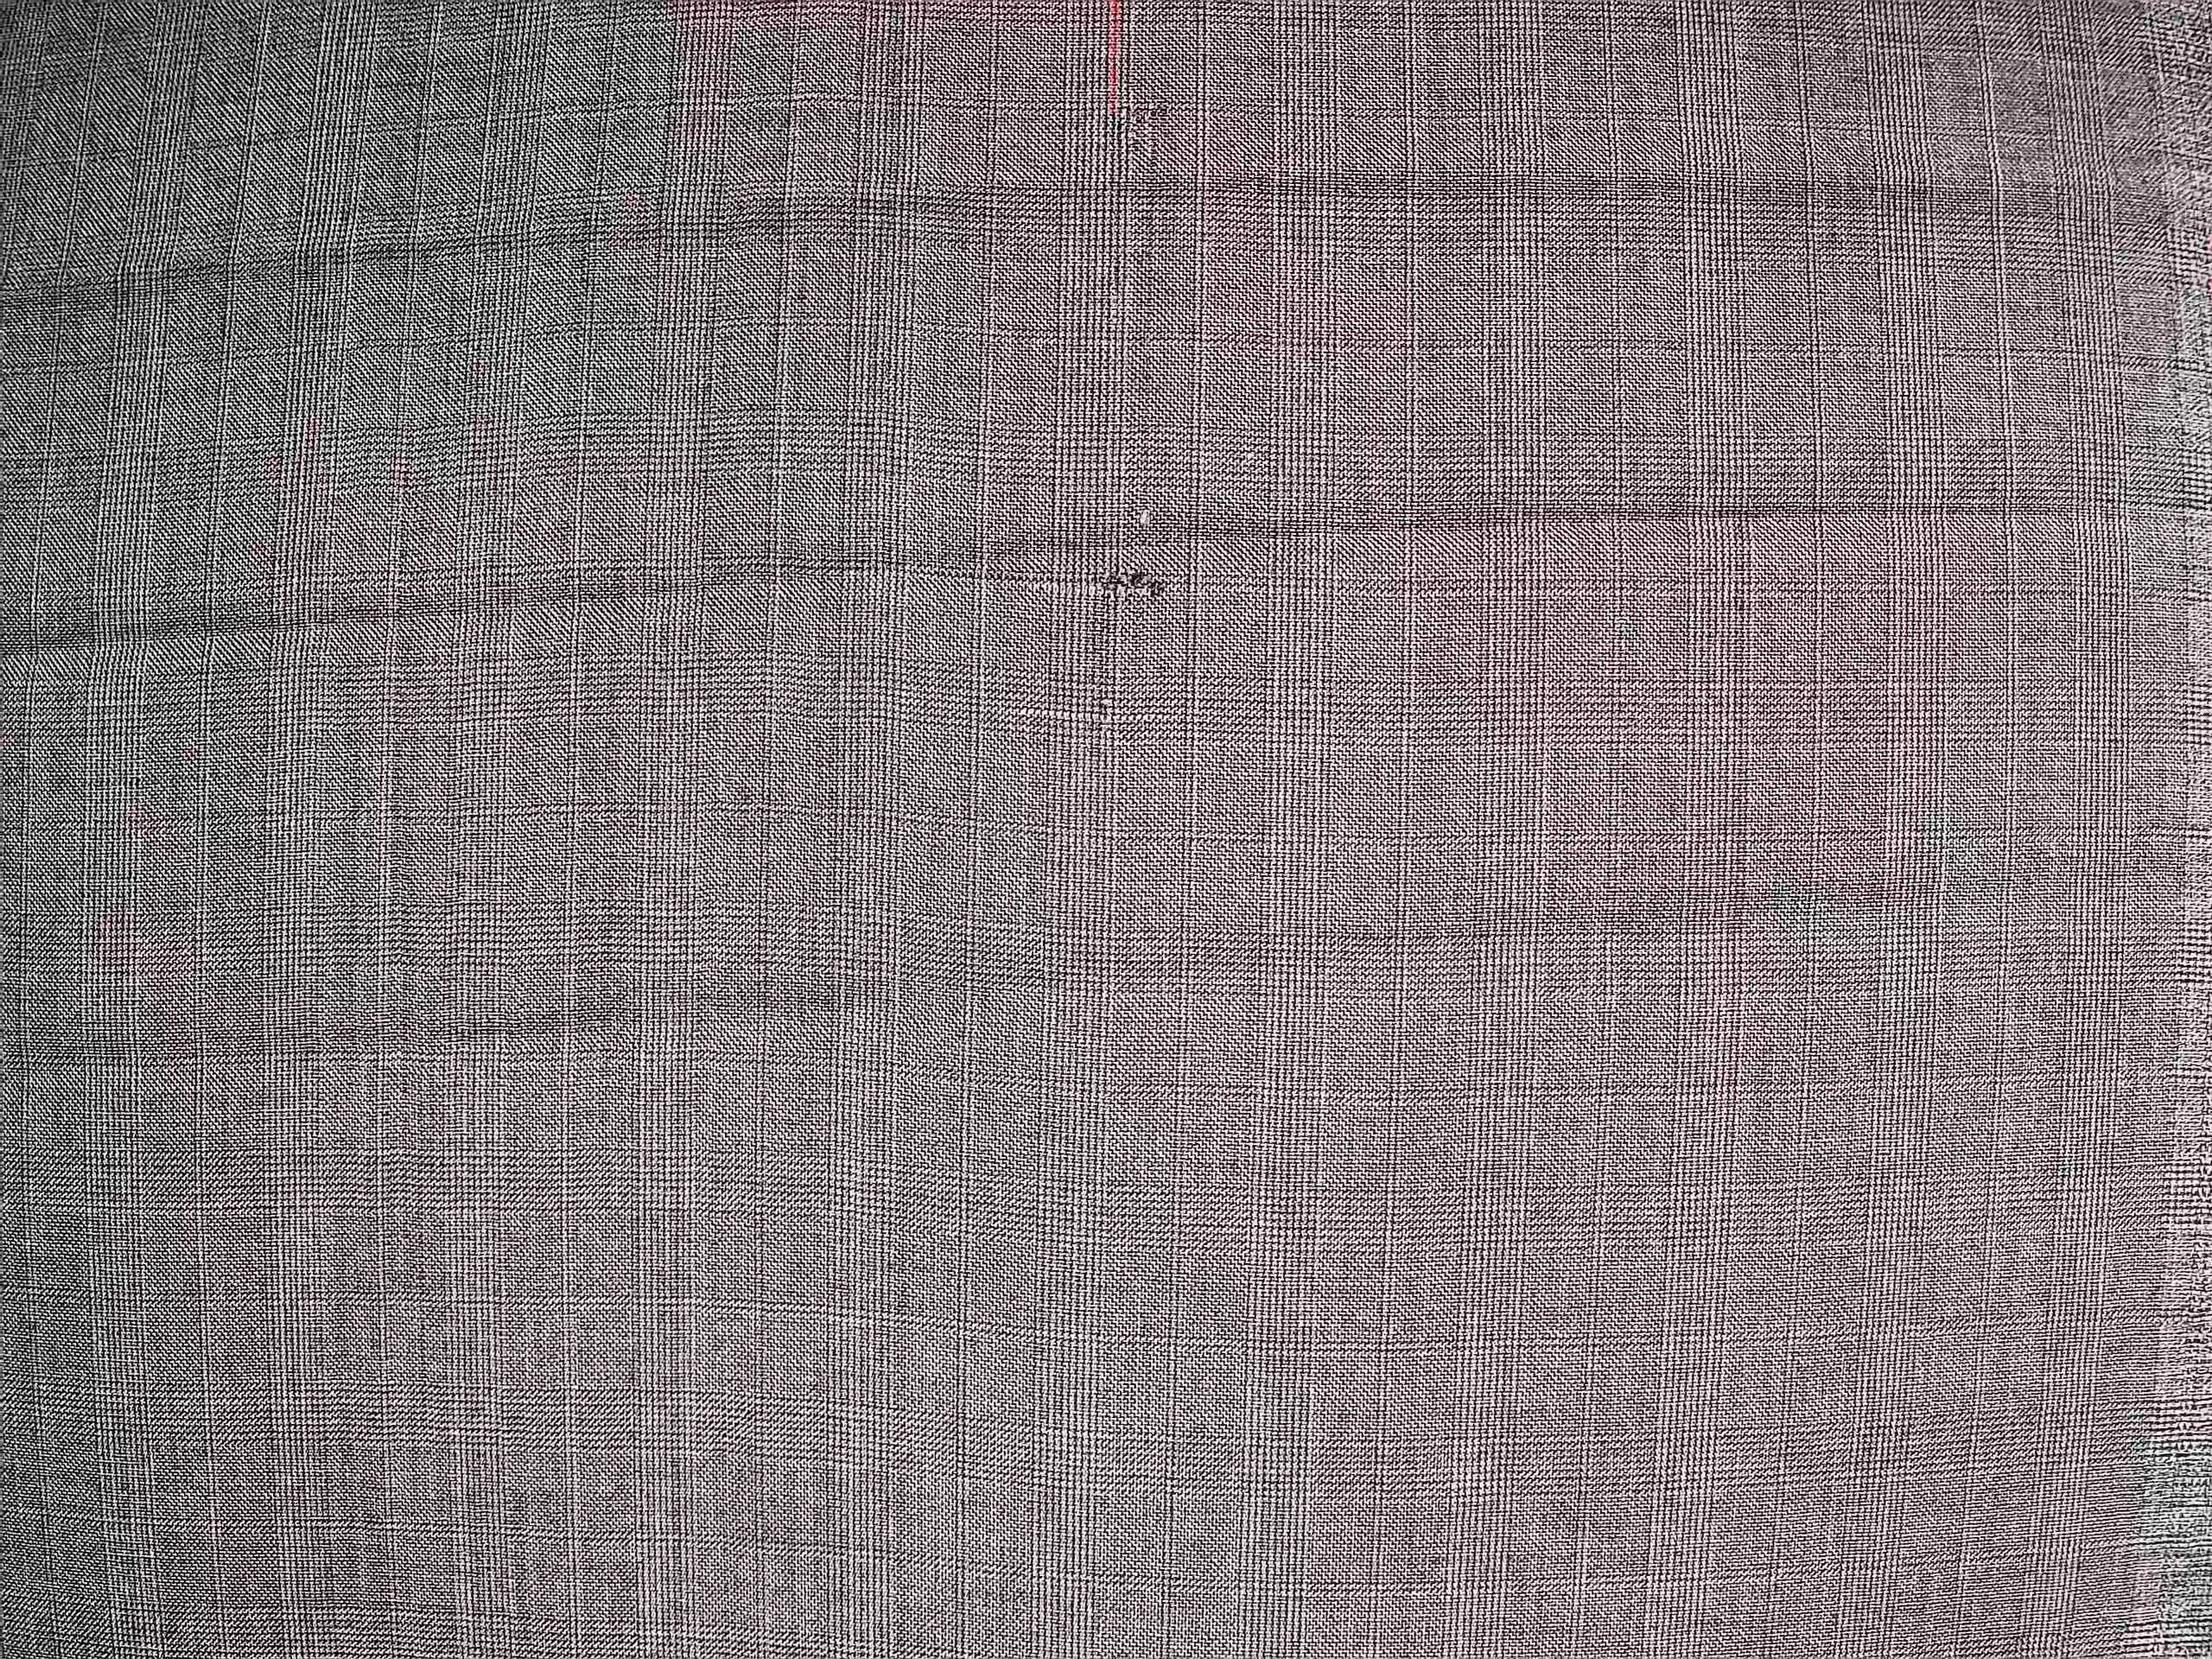jumps: (1015, 535, 1223, 627), (1083, 80, 1212, 145)
